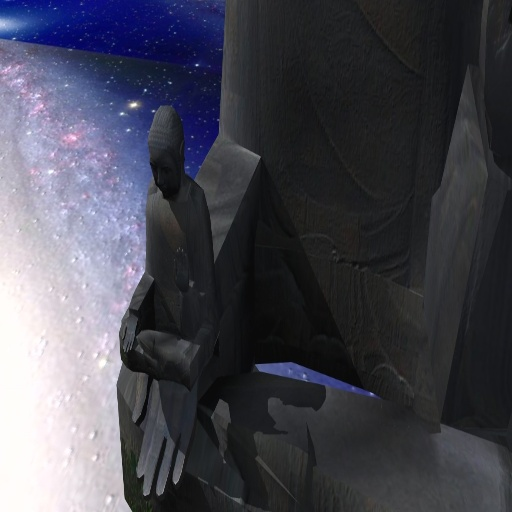hand: (128, 372, 199, 500), (173, 244, 189, 297), (121, 311, 136, 352)
